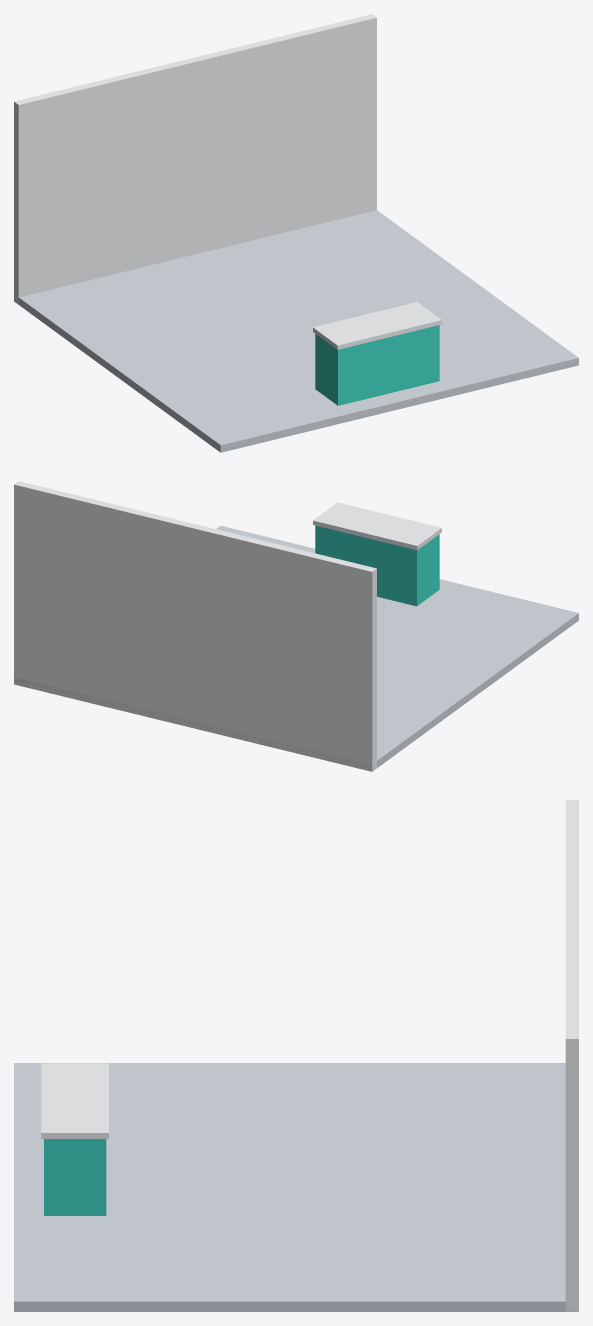
3 renders of one model, top to bottom at view 1: azimuth 30°, elevation 25°; view 2: azimuth 150°, elevation 25°; view 3: azimuth 270°, elevation 25°, orthographic. The views are drawn at different scales.
Parts seen in each view (by area): view 1: Exhibition Booth Concept; view 2: Exhibition Booth Concept; view 3: Exhibition Booth Concept.
Part boxes in pixels (box(x1,y1,x2,y2)): Exhibition Booth Concept: box(14, 14, 578, 452); Exhibition Booth Concept: box(14, 481, 578, 771); Exhibition Booth Concept: box(14, 800, 578, 1311).
Bounding box in the file's own units: 6 × 3.2 × 6.
